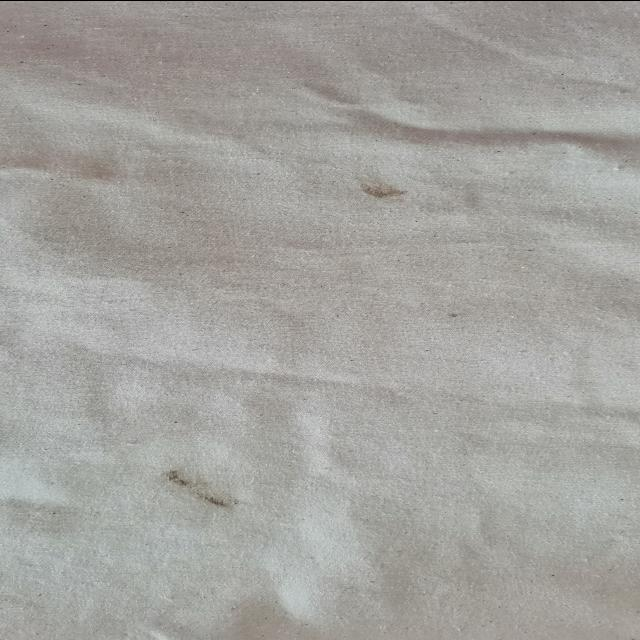taaaches: (146, 463, 252, 512), (336, 178, 416, 204)
